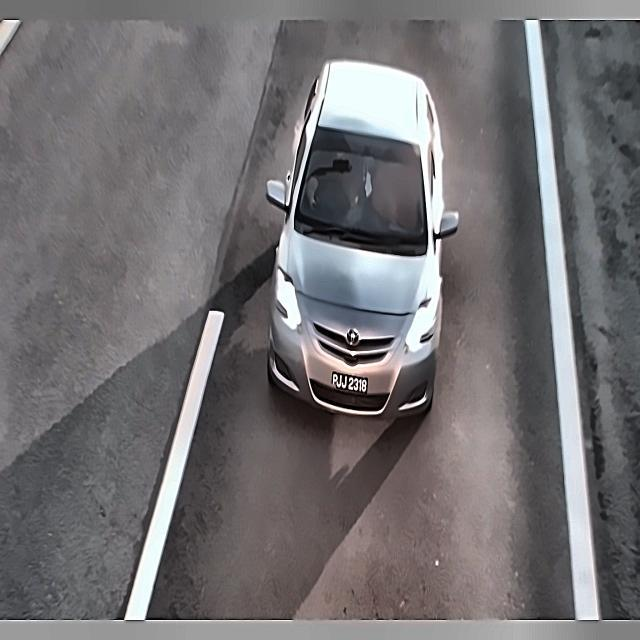car: (326, 364, 372, 404)
